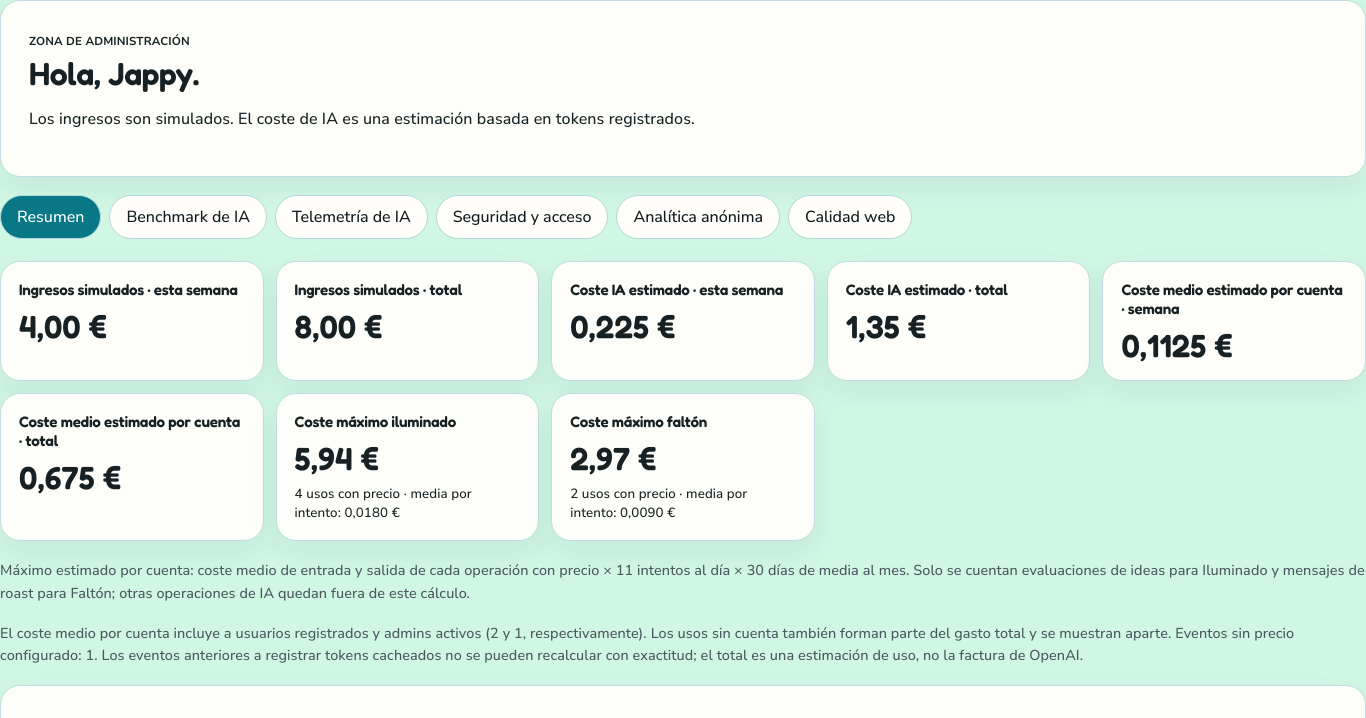
Test: AdminDashboard › shows grouped anonymous metrics without claiming a person-level conversion
Expected: the heading "Hola, Jappy." is shown, [29,54,199,93]
Click the tab "Analítica anónima".
click(698, 217)  # box [616,195,780,239]
(page scrolled)
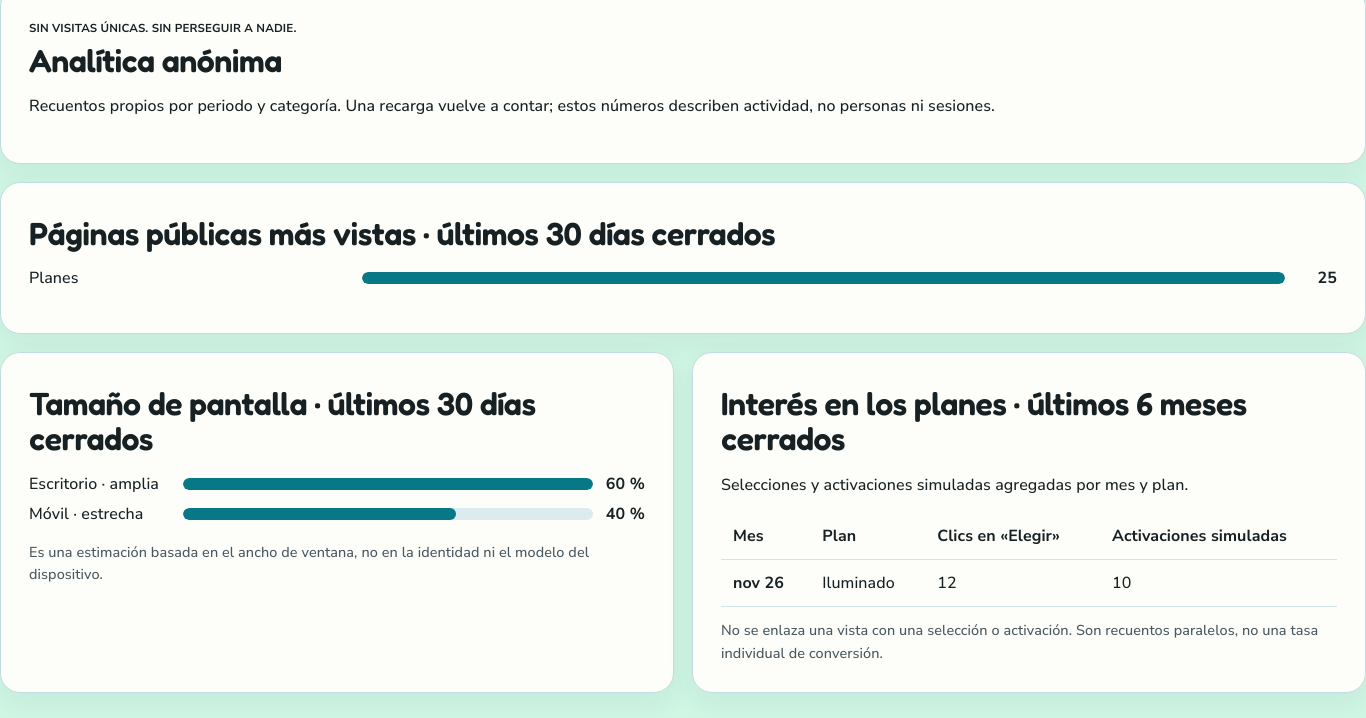
Now the heading "Páginas públicas más vistas · últimos 30 días cerrados" is shown, box [29,214,775,253]
Now the text "Móvil · estrecha" is shown, box [29,502,143,524]
Now the text "40 %" is shown, box [603,502,645,524]
